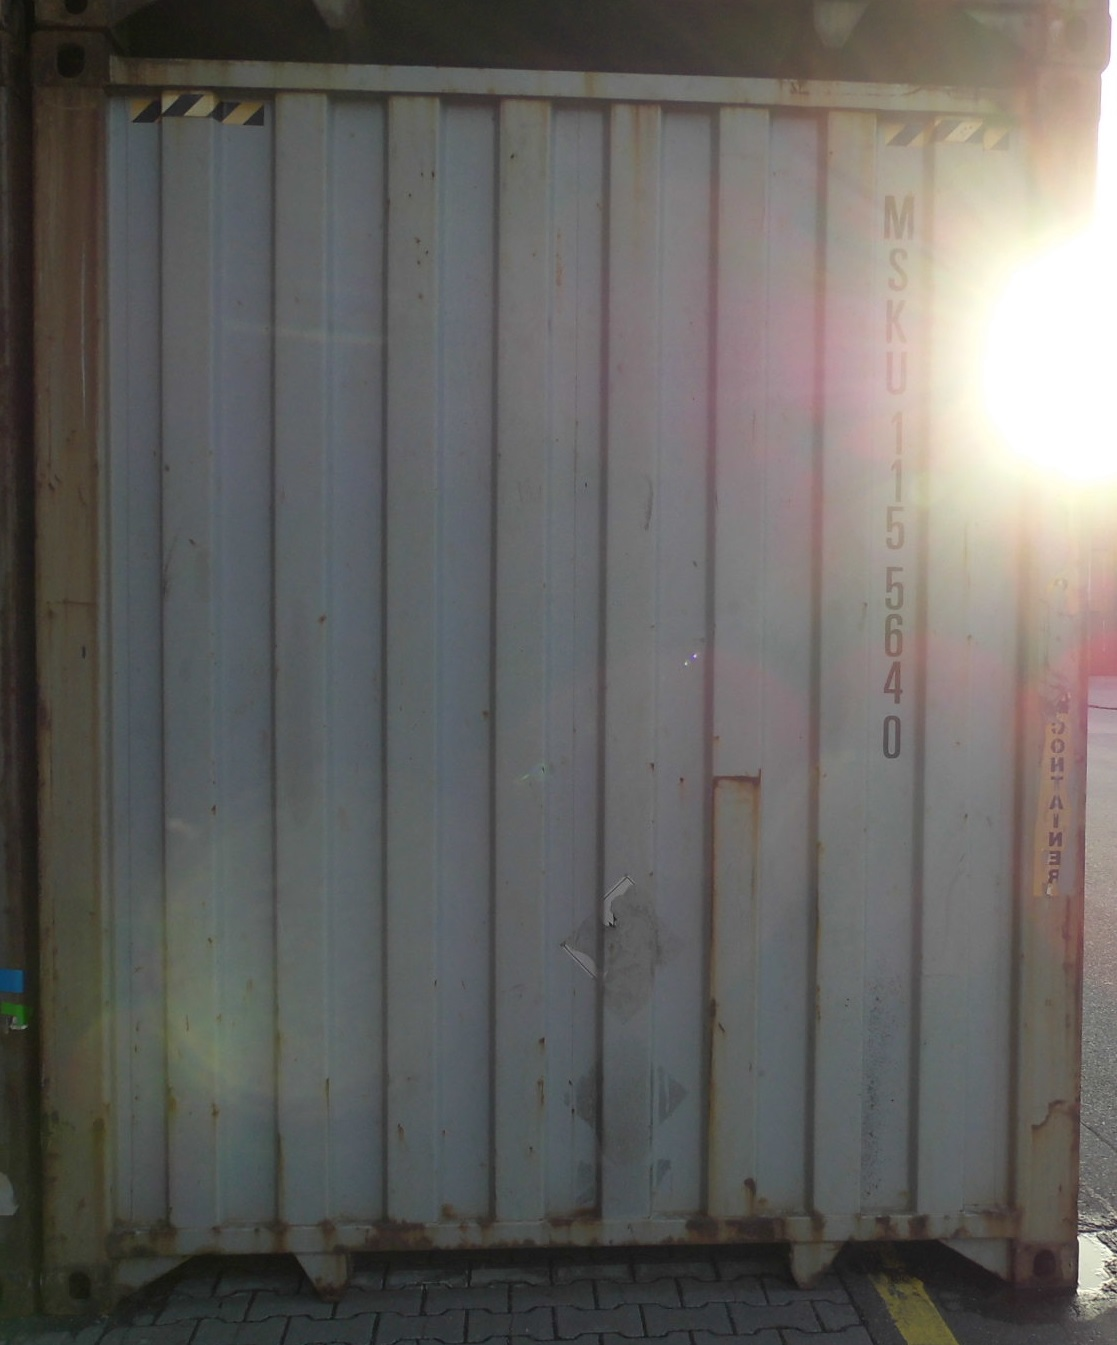container_no_door: (29, 25, 1080, 1314)
